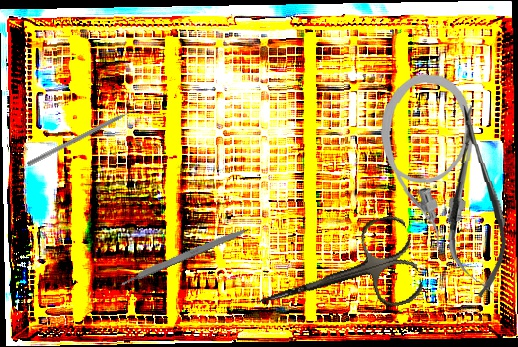Cannula: (376, 72, 476, 249)
Chopper: (26, 104, 144, 173)
Iris Scissors: (244, 212, 427, 343)
Micro Scissor: (440, 102, 511, 300)
Scalpel Handle: (117, 223, 252, 288)
